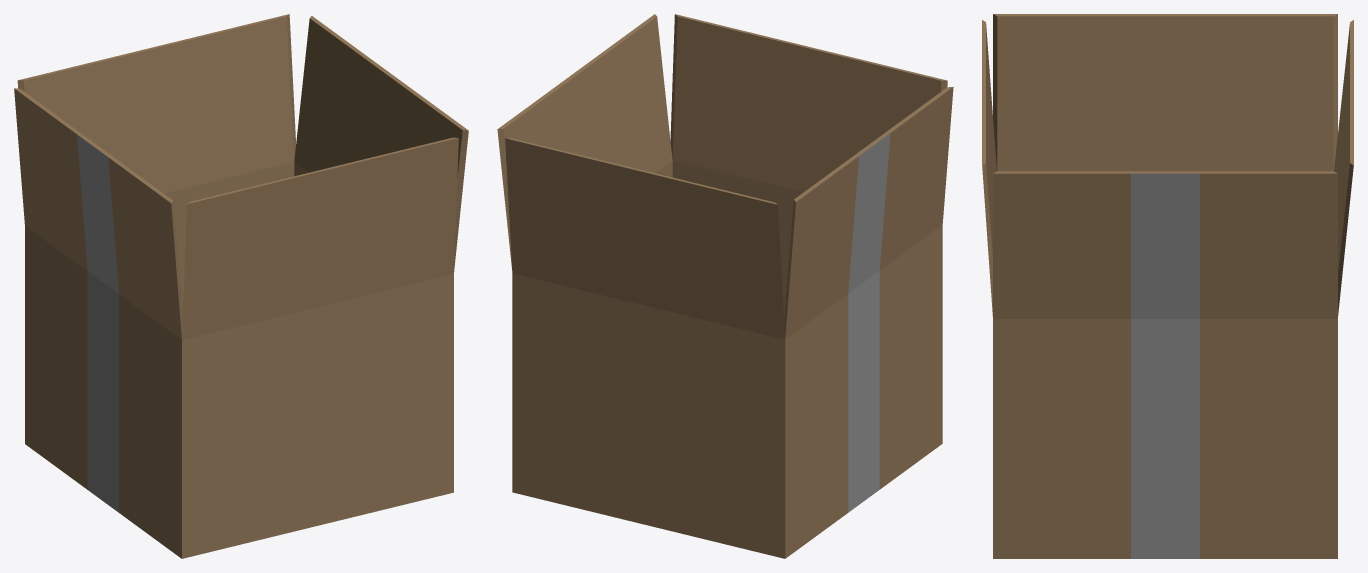
File: S.OpenBox.fbx
The picture shows the model from 3 angles, left to right: view 1: azimuth 30°, elevation 25°; view 2: azimuth 150°, elevation 25°; view 3: azimuth 270°, elevation 25°; orthographic projection. The views are drawn at different scales.
Parts seen in each view (by area): view 1: Open Box; view 2: Open Box; view 3: Open Box.
Part boxes in pixels (bbox=[...]): Open Box: bbox=[14, 14, 468, 558]; Open Box: bbox=[497, 14, 953, 558]; Open Box: bbox=[982, 14, 1353, 558].
Bounding box in the file's own units: 157 × 180 × 154.
